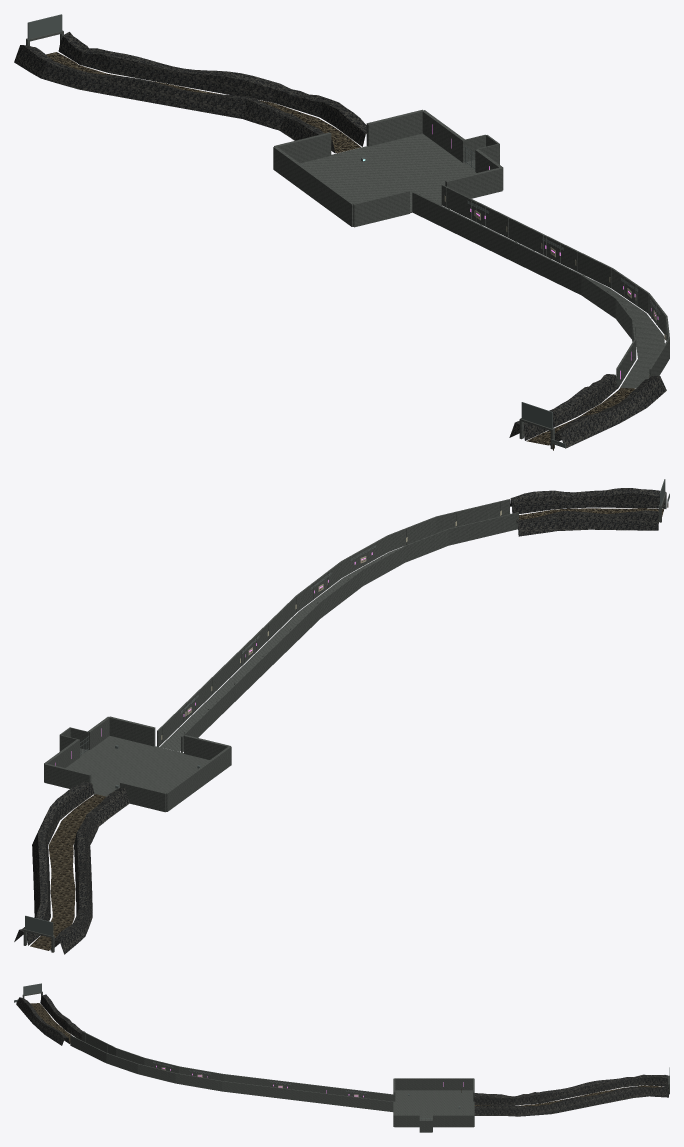
File: PL_Route_C.fbx
3 renders of one model, top to bottom at view 1: azimuth 30°, elevation 25°; view 2: azimuth 150°, elevation 25°; view 3: azimuth 270°, elevation 25°, orthographic. The views are drawn at different scales.
Visible parts, largest first — view 1: PL_C_TunnelWalls, PL_C_CombatSpace, PL_Bank_ExitC_-1, PL_Bank_ExitC_1, PL_Bank_LinkC_-1, PL_C_RoomWall, PL_Travel_C, PL_Bank_LinkC_1, PL_Travel_ExitC, PL_C_ChamberEnd, PL_C_ChamberEnd.003, PL_C_ChamberEnd.001 (+3 smaller); view 2: PL_C_TunnelWalls, PL_C_CombatSpace, PL_Travel_ExitC, PL_Bank_ExitC_1, PL_Bank_LinkC_-1, PL_Bank_ExitC_-1, PL_Bank_LinkC_1, PL_Travel_C, PL_C_RoomWall, PL_C_ChamberEnd.001, PL_C_ChamberEnd.002, PL_C_ChamberEnd.003 (+1 smaller); view 3: PL_C_TunnelWalls, PL_Bank_ExitC_-1, PL_Bank_ExitC_1, PL_C_CombatSpace, PL_C_RoomWall, PL_Bank_LinkC_-1, PL_Bank_LinkC_1, PL_C_RoomWall.002, PL_Travel_LinkC, PL_C_RoomWall.001, PL_Travel_ExitC.
Boxes of the visible parts, x1=… form: PL_C_TunnelWalls: x1=412, y1=185, x2=669, y2=387; PL_C_CombatSpace: x1=300, y1=133, x2=476, y2=213; PL_Bank_ExitC_-1: x1=58, y1=32, x2=367, y2=146; PL_Bank_ExitC_1: x1=14, y1=45, x2=335, y2=153; PL_Bank_LinkC_-1: x1=550, y1=376, x2=666, y2=448; PL_C_RoomWall: x1=273, y1=146, x2=354, y2=226; PL_Travel_C: x1=585, y1=276, x2=664, y2=388; PL_Bank_LinkC_1: x1=509, y1=374, x2=618, y2=440; PL_Travel_ExitC: x1=46, y1=52, x2=360, y2=153; PL_C_ChamberEnd: x1=353, y1=190, x2=409, y2=227; PL_C_ChamberEnd.003: x1=366, y1=109, x2=423, y2=146; PL_C_ChamberEnd.001: x1=445, y1=167, x2=502, y2=198; PL_C_TunnelWalls: x1=157, y1=499, x2=518, y2=752; PL_C_CombatSpace: x1=66, y1=736, x2=209, y2=796; PL_Travel_ExitC: x1=30, y1=794, x2=105, y2=950; PL_Bank_ExitC_1: x1=50, y1=787, x2=129, y2=954; PL_Bank_LinkC_-1: x1=510, y1=488, x2=665, y2=513; PL_Bank_ExitC_-1: x1=14, y1=781, x2=94, y2=945; PL_Bank_LinkC_1: x1=516, y1=510, x2=659, y2=536; PL_Travel_C: x1=160, y1=548, x2=399, y2=751; PL_C_RoomWall: x1=166, y1=746, x2=231, y2=811; PL_C_ChamberEnd.001: x1=109, y1=716, x2=155, y2=746; PL_C_ChamberEnd.002: x1=120, y1=782, x2=166, y2=812; PL_C_ChamberEnd.003: x1=44, y1=763, x2=91, y2=788; PL_C_TunnelWalls: x1=70, y1=1031, x2=394, y2=1111; PL_Bank_ExitC_-1: x1=474, y1=1086, x2=668, y2=1116; PL_Bank_ExitC_1: x1=474, y1=1074, x2=668, y2=1105; PL_C_CombatSpace: x1=395, y1=1090, x2=472, y2=1120; PL_C_RoomWall: x1=394, y1=1078, x2=473, y2=1090; PL_Bank_LinkC_-1: x1=16, y1=997, x2=69, y2=1045; PL_Bank_LinkC_1: x1=40, y1=994, x2=85, y2=1040; PL_C_RoomWall.002: x1=432, y1=1115, x2=473, y2=1127; PL_Travel_LinkC: x1=30, y1=1003, x2=71, y2=1043; PL_C_RoomWall.001: x1=394, y1=1115, x2=419, y2=1127; PL_Travel_ExitC: x1=474, y1=1085, x2=662, y2=1106.
Size of the model in its own units: 11521 by 4353 by 36290.
Materials: 13 (5 with a texture image).
